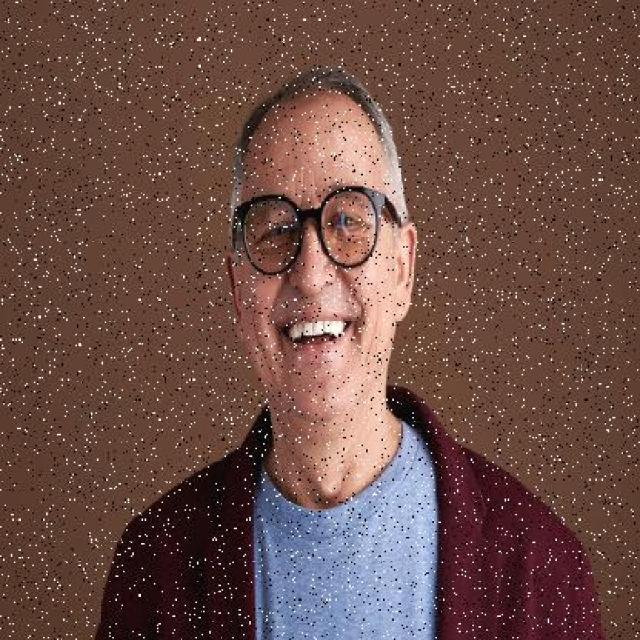mask: (228, 180, 392, 286)
